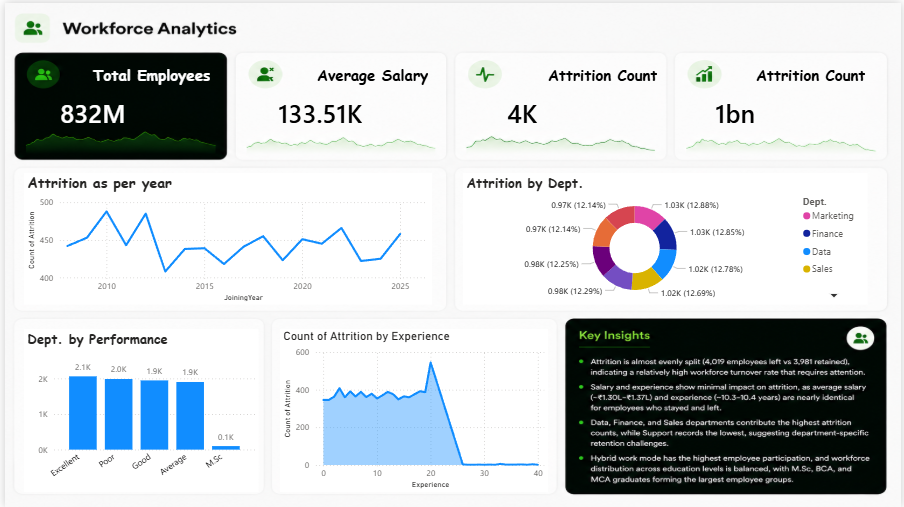

What the dashboard file says about the page in this screenshot:
{"tool":"powerbi","page":{"name":"Page 1","canvas":[1280,720],"ordinal":0},"visuals":[{"type":"cardVisual","title":"Total Employees","fields":{"Data":["cleaned_ds.Total Employees"]},"box":[50,86.7,248.3,105],"z":0},{"type":"cardVisual","title":"Average Salary","fields":{"Data":["cleaned_ds.Average Salary"]},"box":[361.7,86.7,248.3,105],"z":1},{"type":"cardVisual","title":"Attrition Count","fields":{"Data":["cleaned_ds.Attrition Count"]},"box":[688.3,86.7,248.3,105],"z":2},{"type":"cardVisual","title":"Attrition Count","fields":{"Data":["cleaned_ds.Total Salary"]},"box":[985,86.7,248.3,105],"z":3},{"type":"donutChart","title":"Attrition by Dept.","fields":{"Y":["CountNonNull(cleaned_ds.Attrition)"],"Category":["cleaned_ds.Dept."]},"box":[655,243.3,578.3,188.3],"z":4},{"type":"clusteredColumnChart","title":"Dept. by Performance","fields":{"Category":["cleaned_ds.Performance"],"Y":["CountNonNull(cleaned_ds.Dept.)"]},"box":[26.7,465,335,233.3],"z":5},{"type":"lineChart","title":"Attrition as per year","fields":{"Category":["cleaned_ds.JoiningYear"],"Y":["CountNonNull(cleaned_ds.Attrition)"]},"box":[26.7,243.3,583.3,188.3],"z":6},{"type":"areaChart","fields":{"Category":["cleaned_ds.Experience"],"Y":["CountNonNull(cleaned_ds.Attrition)"]},"box":[393.3,465,383.3,233.3],"z":7}]}

Visuals, with their boxes in screenshot pixels (x1, y1, x2, y2), scaled from the page's 1280x720 canvas onto the 904x507 screenshot:
"Total Employees" cardVisual: 35,61,211,135
"Average Salary" cardVisual: 255,61,431,135
"Attrition Count" cardVisual: 486,61,661,135
"Attrition Count" cardVisual: 696,61,871,135
"Attrition by Dept." donutChart: 463,171,871,304
"Dept. by Performance" clusteredColumnChart: 19,327,255,492
"Attrition as per year" lineChart: 19,171,431,304
areaChart - cleaned_ds.Experience x CountNonNull(cleaned_ds.Attrition): 278,327,548,492
